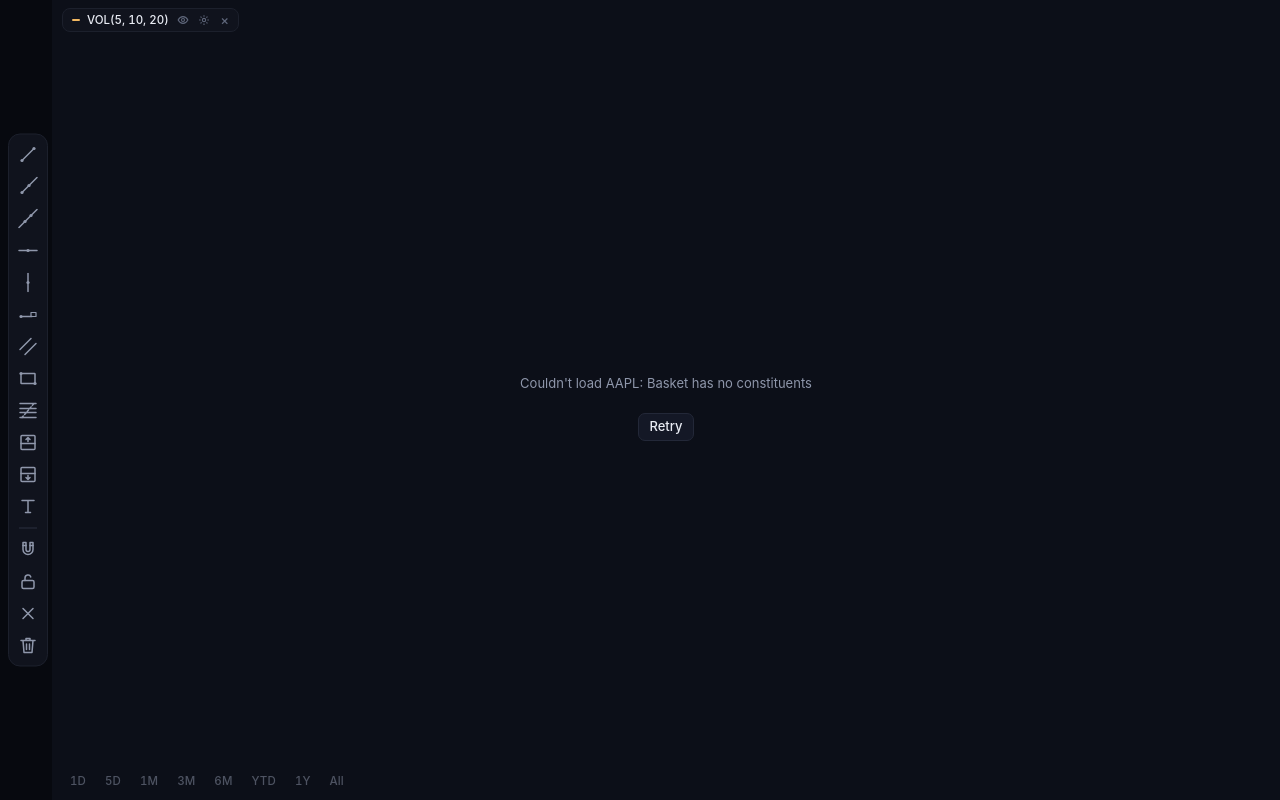
Test: ChartView › a permanent load error shows its message inline in an opaque panel with Retry (no "Connection lost")
This screenshot has width=1280, height=800.
Click the button "Retry". click: (666,427)
box: [638,413,694,441]
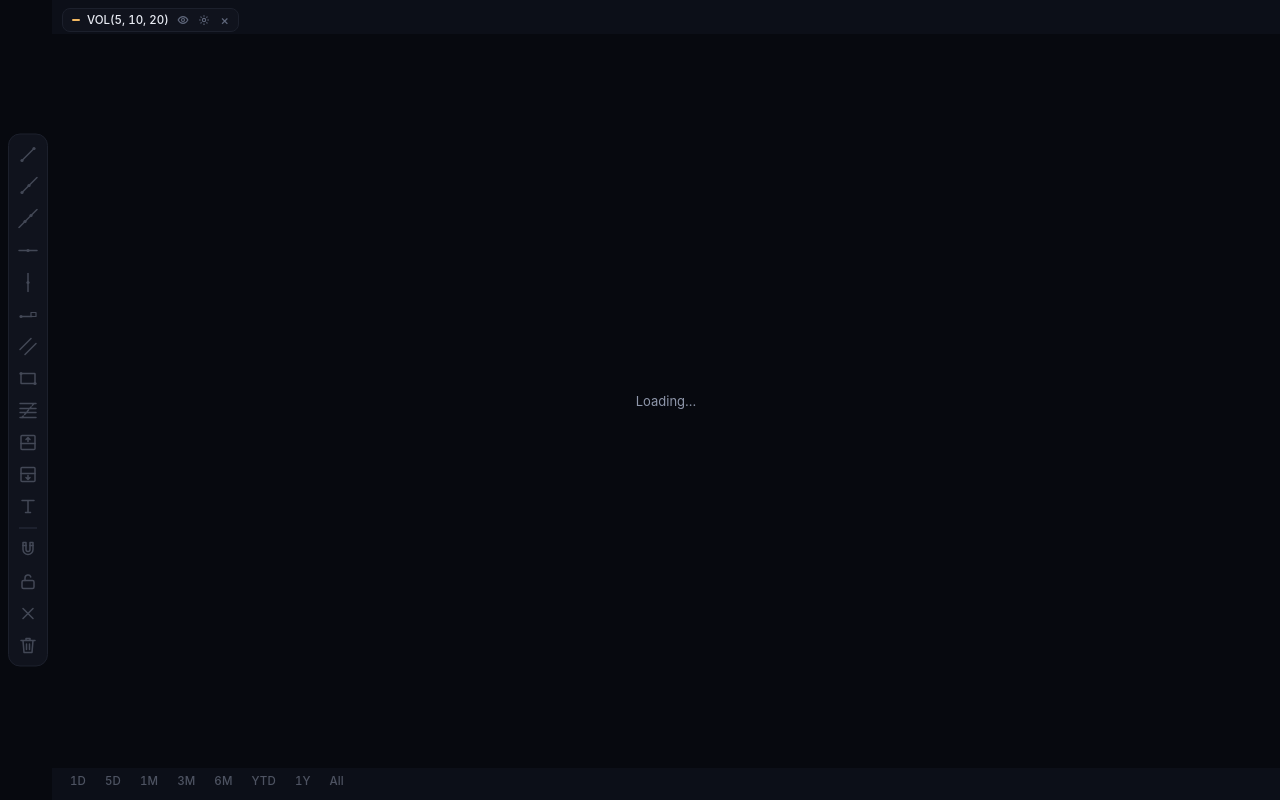
Expected: the message with test id "load-error" is gone
